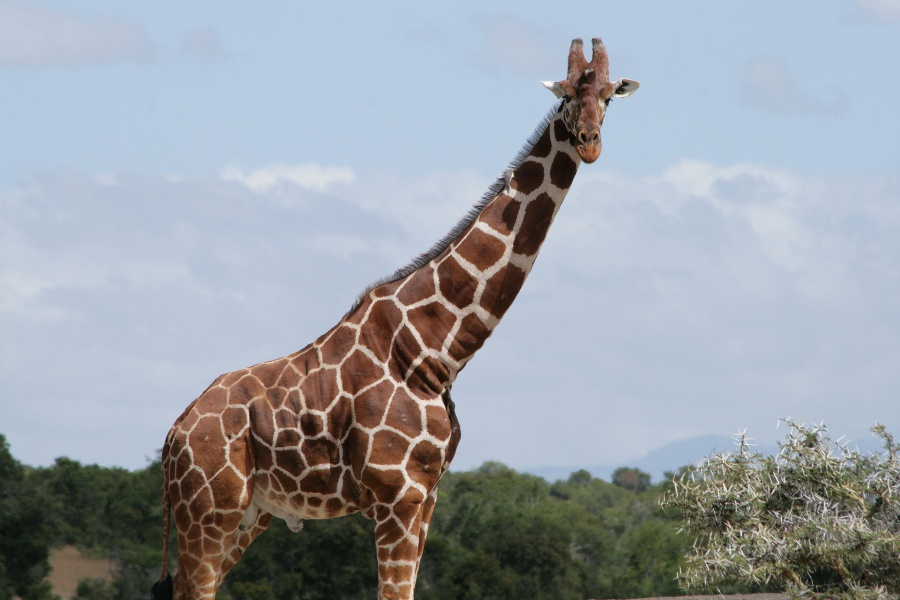giraffe: (144, 31, 643, 599)
